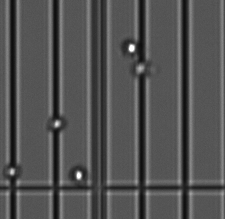Living Cell: (47, 117, 67, 130), (70, 167, 87, 182), (123, 40, 141, 54), (5, 166, 21, 179)
